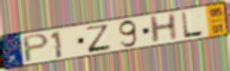1: (49, 30, 64, 59)
9: (117, 19, 139, 48)
H: (148, 11, 180, 45)
L: (180, 10, 206, 39)
P: (22, 32, 51, 64)
Z: (85, 24, 113, 54)
